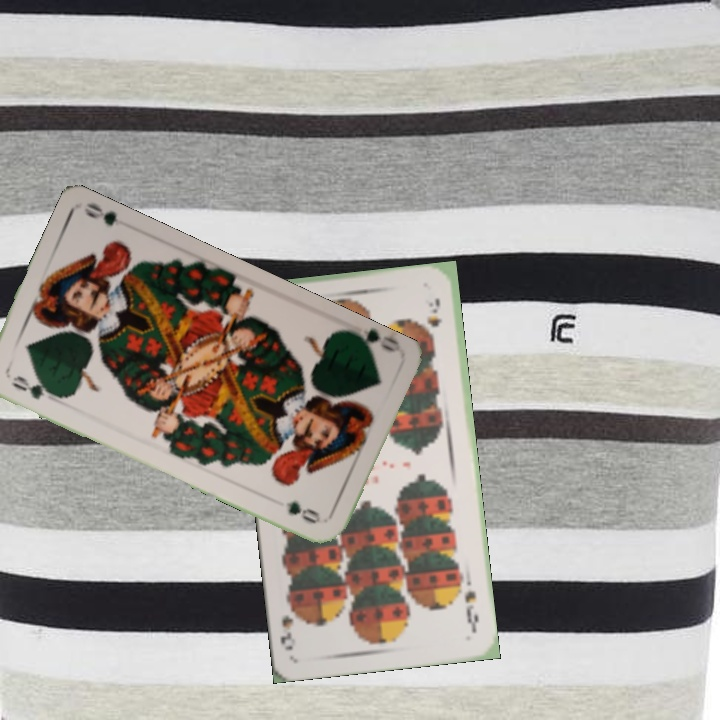GO: (344, 327, 401, 358), (6, 371, 60, 402)
S9: (461, 586, 481, 635)
